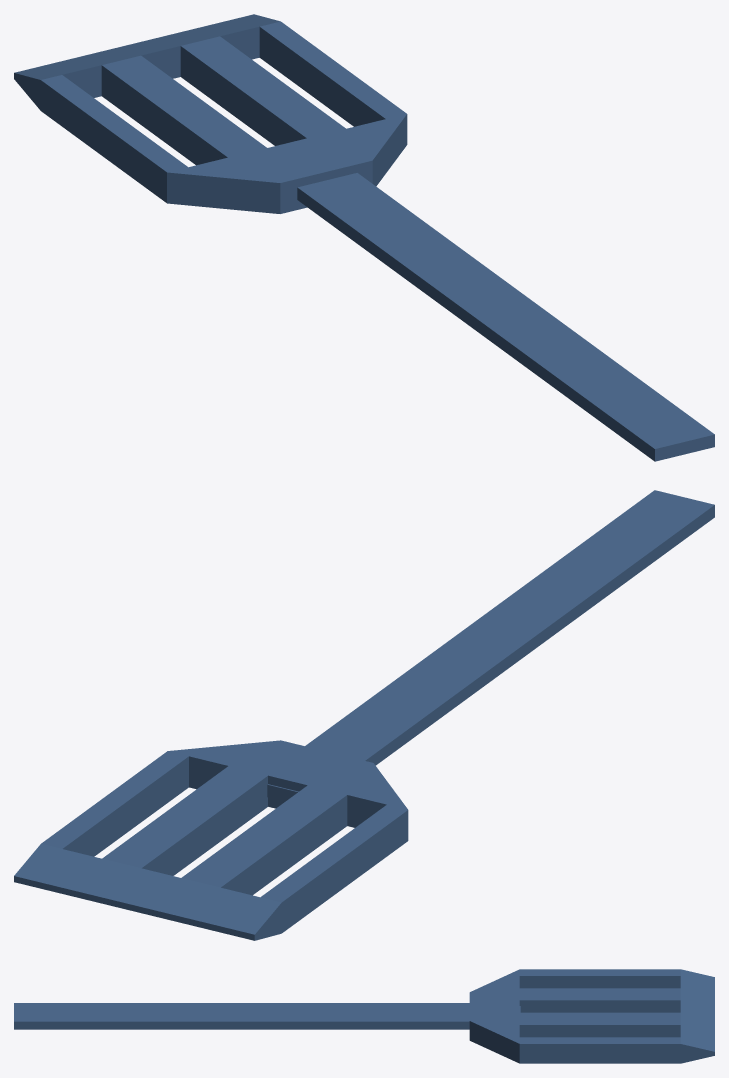
File: Frying spoon.fbx
3 renders of one model, top to bottom at view 1: azimuth 30°, elevation 25°; view 2: azimuth 150°, elevation 25°; view 3: azimuth 270°, elevation 25°, orthographic. The views are drawn at different scales.
Visible parts, largest first — view 1: Frying spoon; view 2: Frying spoon; view 3: Frying spoon.
Part boxes in pixels (left/top/right/bottom): Frying spoon: left=14, top=14, right=714, bottom=461; Frying spoon: left=14, top=490, right=714, bottom=940; Frying spoon: left=14, top=969, right=714, bottom=1063.
Size of the model in its own units: 5.78 by 0.7134 by 22.91.
